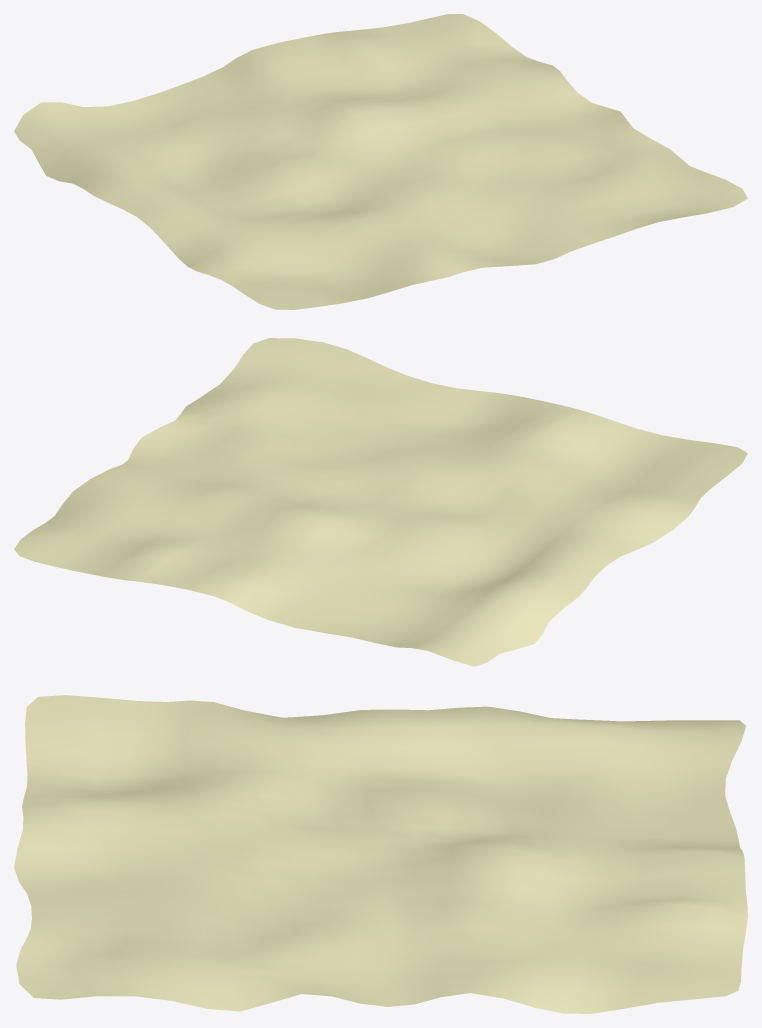
The model's file is pieceOfMap.fbx.
3 renders of one model, top to bottom at view 1: azimuth 30°, elevation 25°; view 2: azimuth 150°, elevation 25°; view 3: azimuth 270°, elevation 25°, orthographic. The views are drawn at different scales.
Visible parts, largest first — view 1: Plane; view 2: Plane; view 3: Plane.
Part boxes in pixels (x1,y1,x2,y2): Plane: (14,14,747,309); Plane: (14,338,747,666); Plane: (14,695,747,1013).
Size of the model in its own units: 205 by 12.09 by 207.
